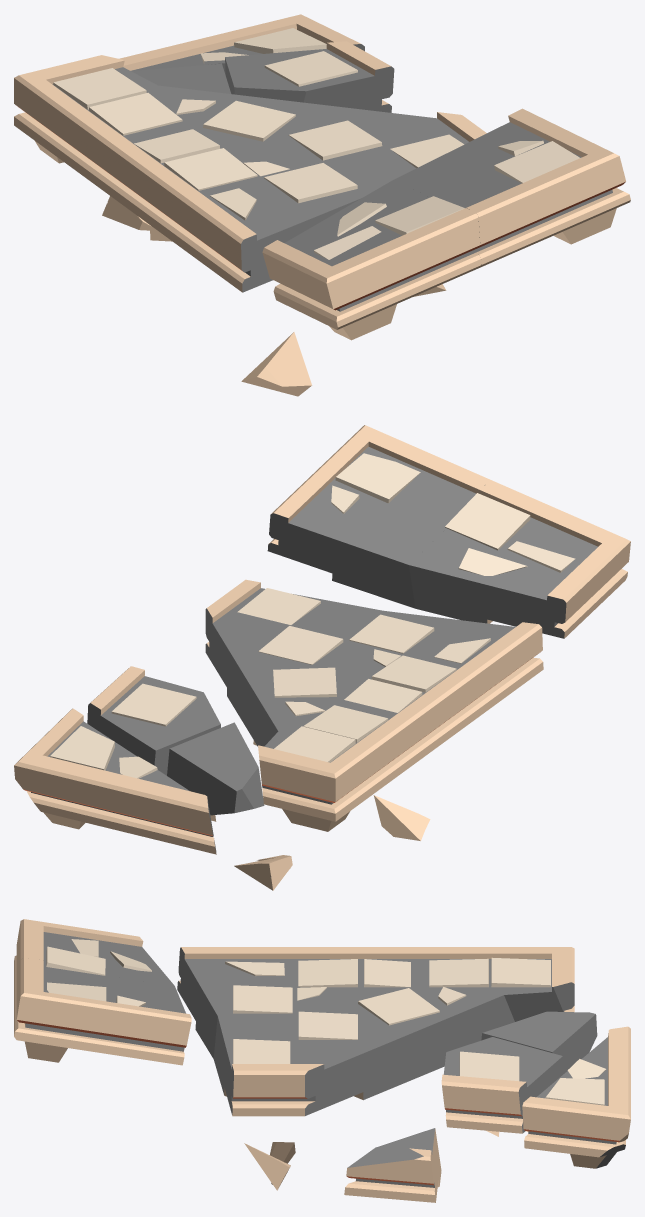
Rendered from Floating_platform_broken.fbx.
3 renders of one model, top to bottom at view 1: azimuth 30°, elevation 25°; view 2: azimuth 150°, elevation 25°; view 3: azimuth 270°, elevation 25°, orthographic. The views are drawn at different scales.
Parts seen in each view (by area): view 1: FP_Broken4, FP_Broken5, FP_Broken2, FP_Broken1, FP_Broken8, FP_Broken3, FP_Broken7; view 2: FP_Broken4, FP_Broken5, FP_Broken1, FP_Broken2, FP_Broken3, FP_Broken8, FP_Broken7; view 3: FP_Broken4, FP_Broken5, FP_Broken1, FP_Broken2, FP_Broken6, FP_Broken3, FP_Broken9, FP_Broken8.
Boxes of the visible parts, bbox=[...] form: FP_Broken4: bbox=[14, 55, 486, 292]; FP_Broken5: bbox=[262, 108, 630, 340]; FP_Broken2: bbox=[225, 41, 394, 112]; FP_Broken1: bbox=[119, 14, 364, 74]; FP_Broken8: bbox=[241, 332, 311, 396]; FP_Broken3: bbox=[131, 63, 231, 93]; FP_Broken7: bbox=[102, 196, 172, 241]; FP_Broken4: bbox=[205, 579, 543, 831]; FP_Broken5: bbox=[267, 425, 630, 638]; FP_Broken1: bbox=[14, 708, 216, 854]; FP_Broken2: bbox=[87, 666, 220, 775]; FP_Broken3: bbox=[167, 722, 264, 815]; FP_Broken8: bbox=[373, 795, 430, 840]; FP_Broken7: bbox=[234, 855, 292, 890]; FP_Broken4: bbox=[177, 947, 574, 1116]; FP_Broken5: bbox=[14, 919, 191, 1065]; FP_Broken1: bbox=[522, 1026, 630, 1168]; FP_Broken2: bbox=[441, 1037, 563, 1133]; FP_Broken6: bbox=[344, 1128, 441, 1202]; FP_Broken3: bbox=[481, 1011, 597, 1073]; FP_Broken9: bbox=[244, 1143, 290, 1190]; FP_Broken8: bbox=[270, 1142, 295, 1184].
Size of the model in its own units: 1569 by 1401 by 2949.
